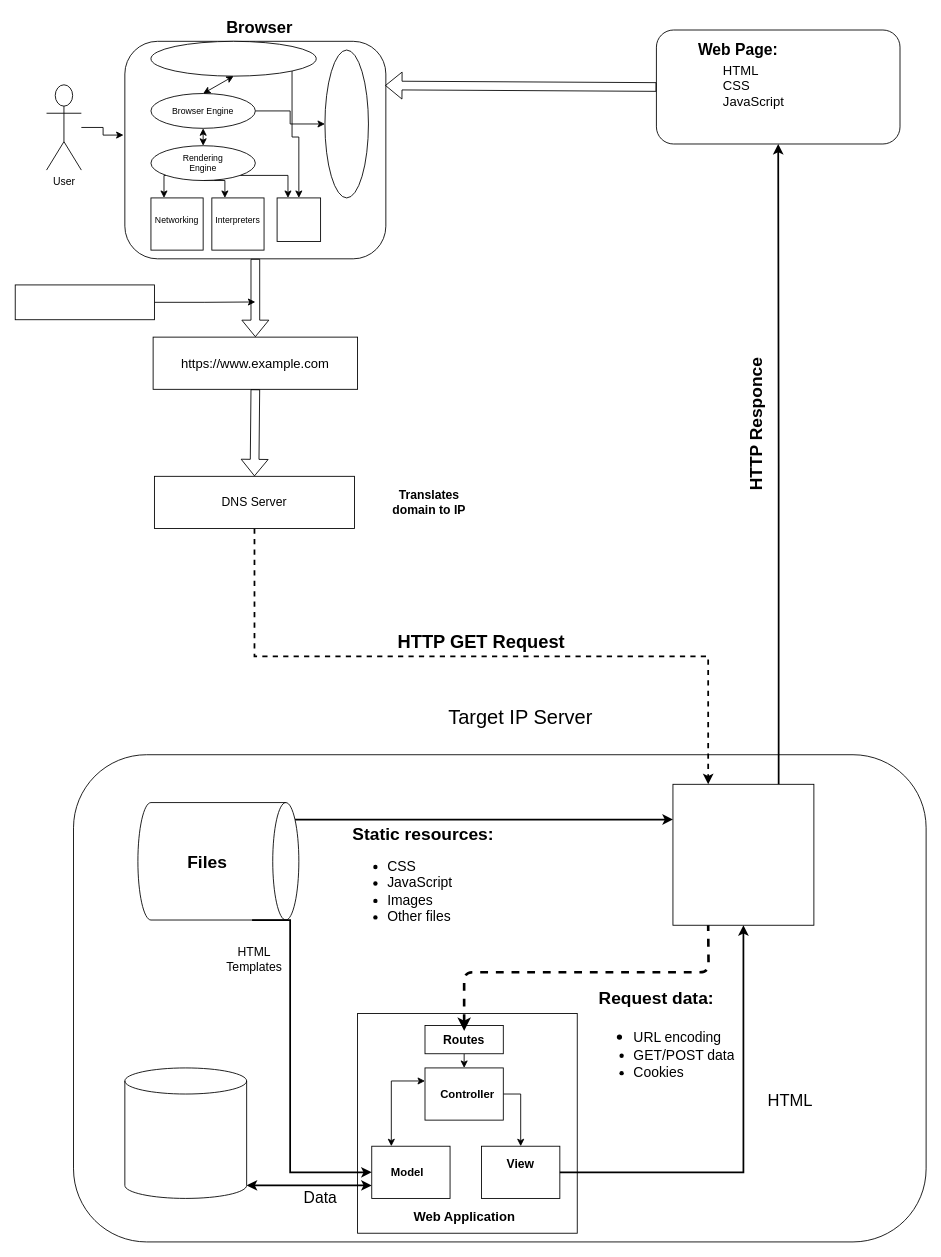
Image size: 941x1257. Some labels were removed from this diagram. Each missing label, with the centre of its shape:
Database: point 185,1132
Presistend Data: point 346,123
Request: point 84,302
UI Backend: point 298,219
UI User interface: point 233,58
Web Server: point 743,854
